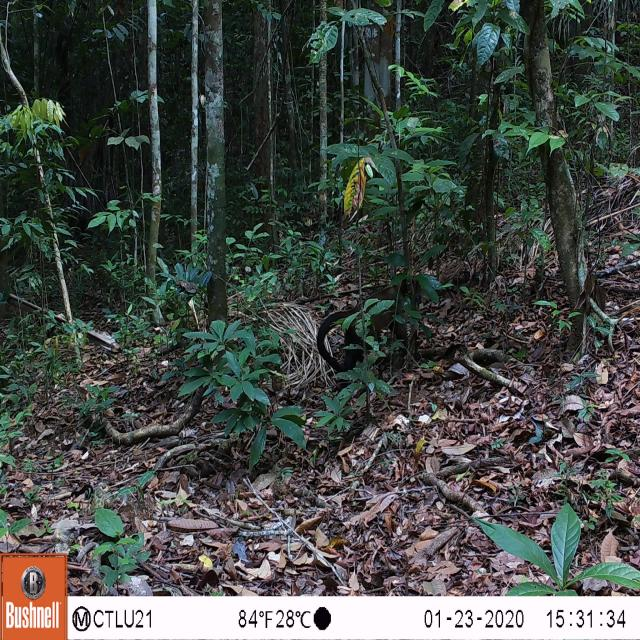Margarita Island Capuchin: (310, 267, 431, 388)
